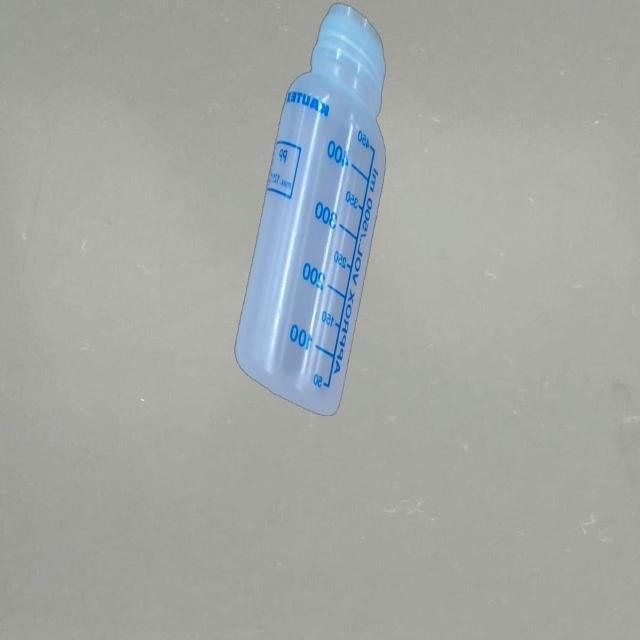bottle: (233, 4, 387, 418)
